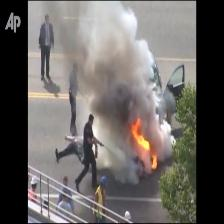fire: (122, 118, 168, 184)
smoke: (45, 1, 164, 124), (155, 110, 178, 166)
